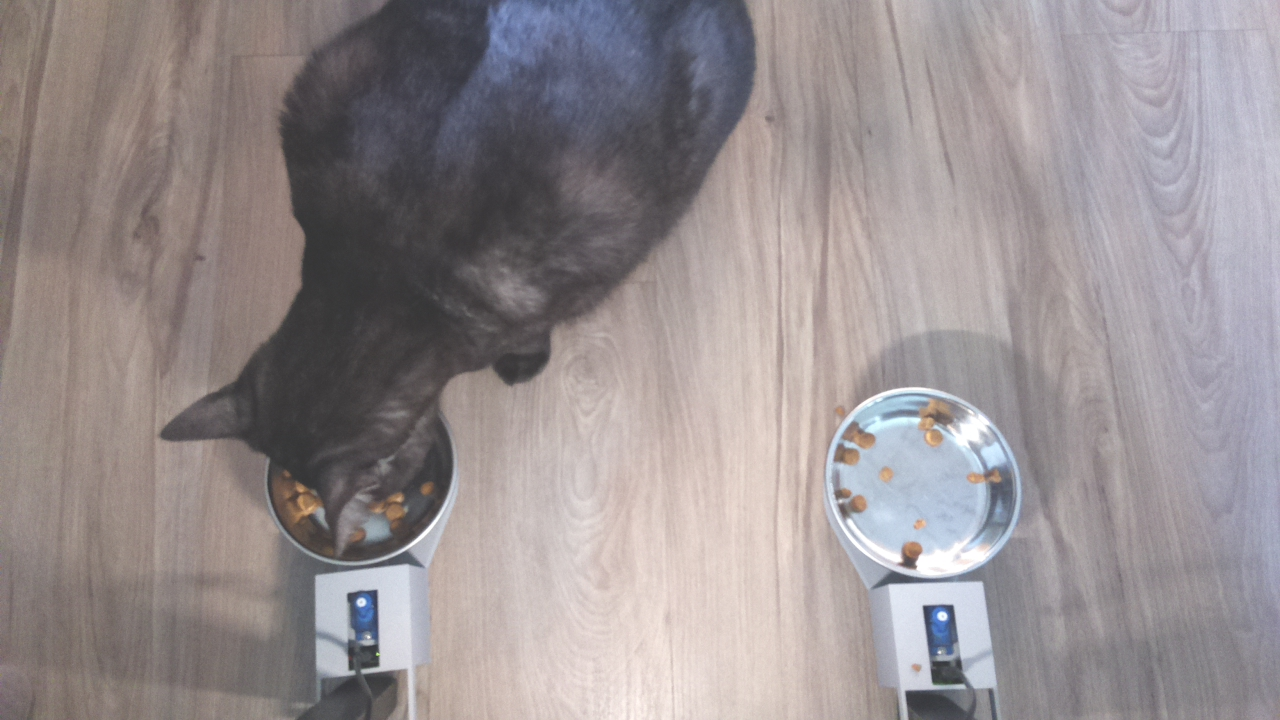open_bowl: (825, 382, 1022, 584)
saki_eating: (148, 305, 461, 573)
